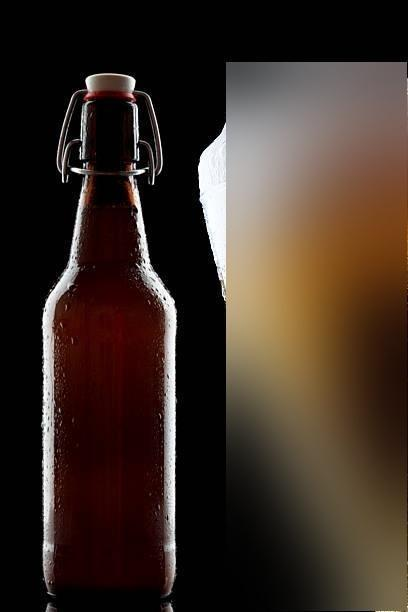bottle-glass: (33, 69, 186, 609)
